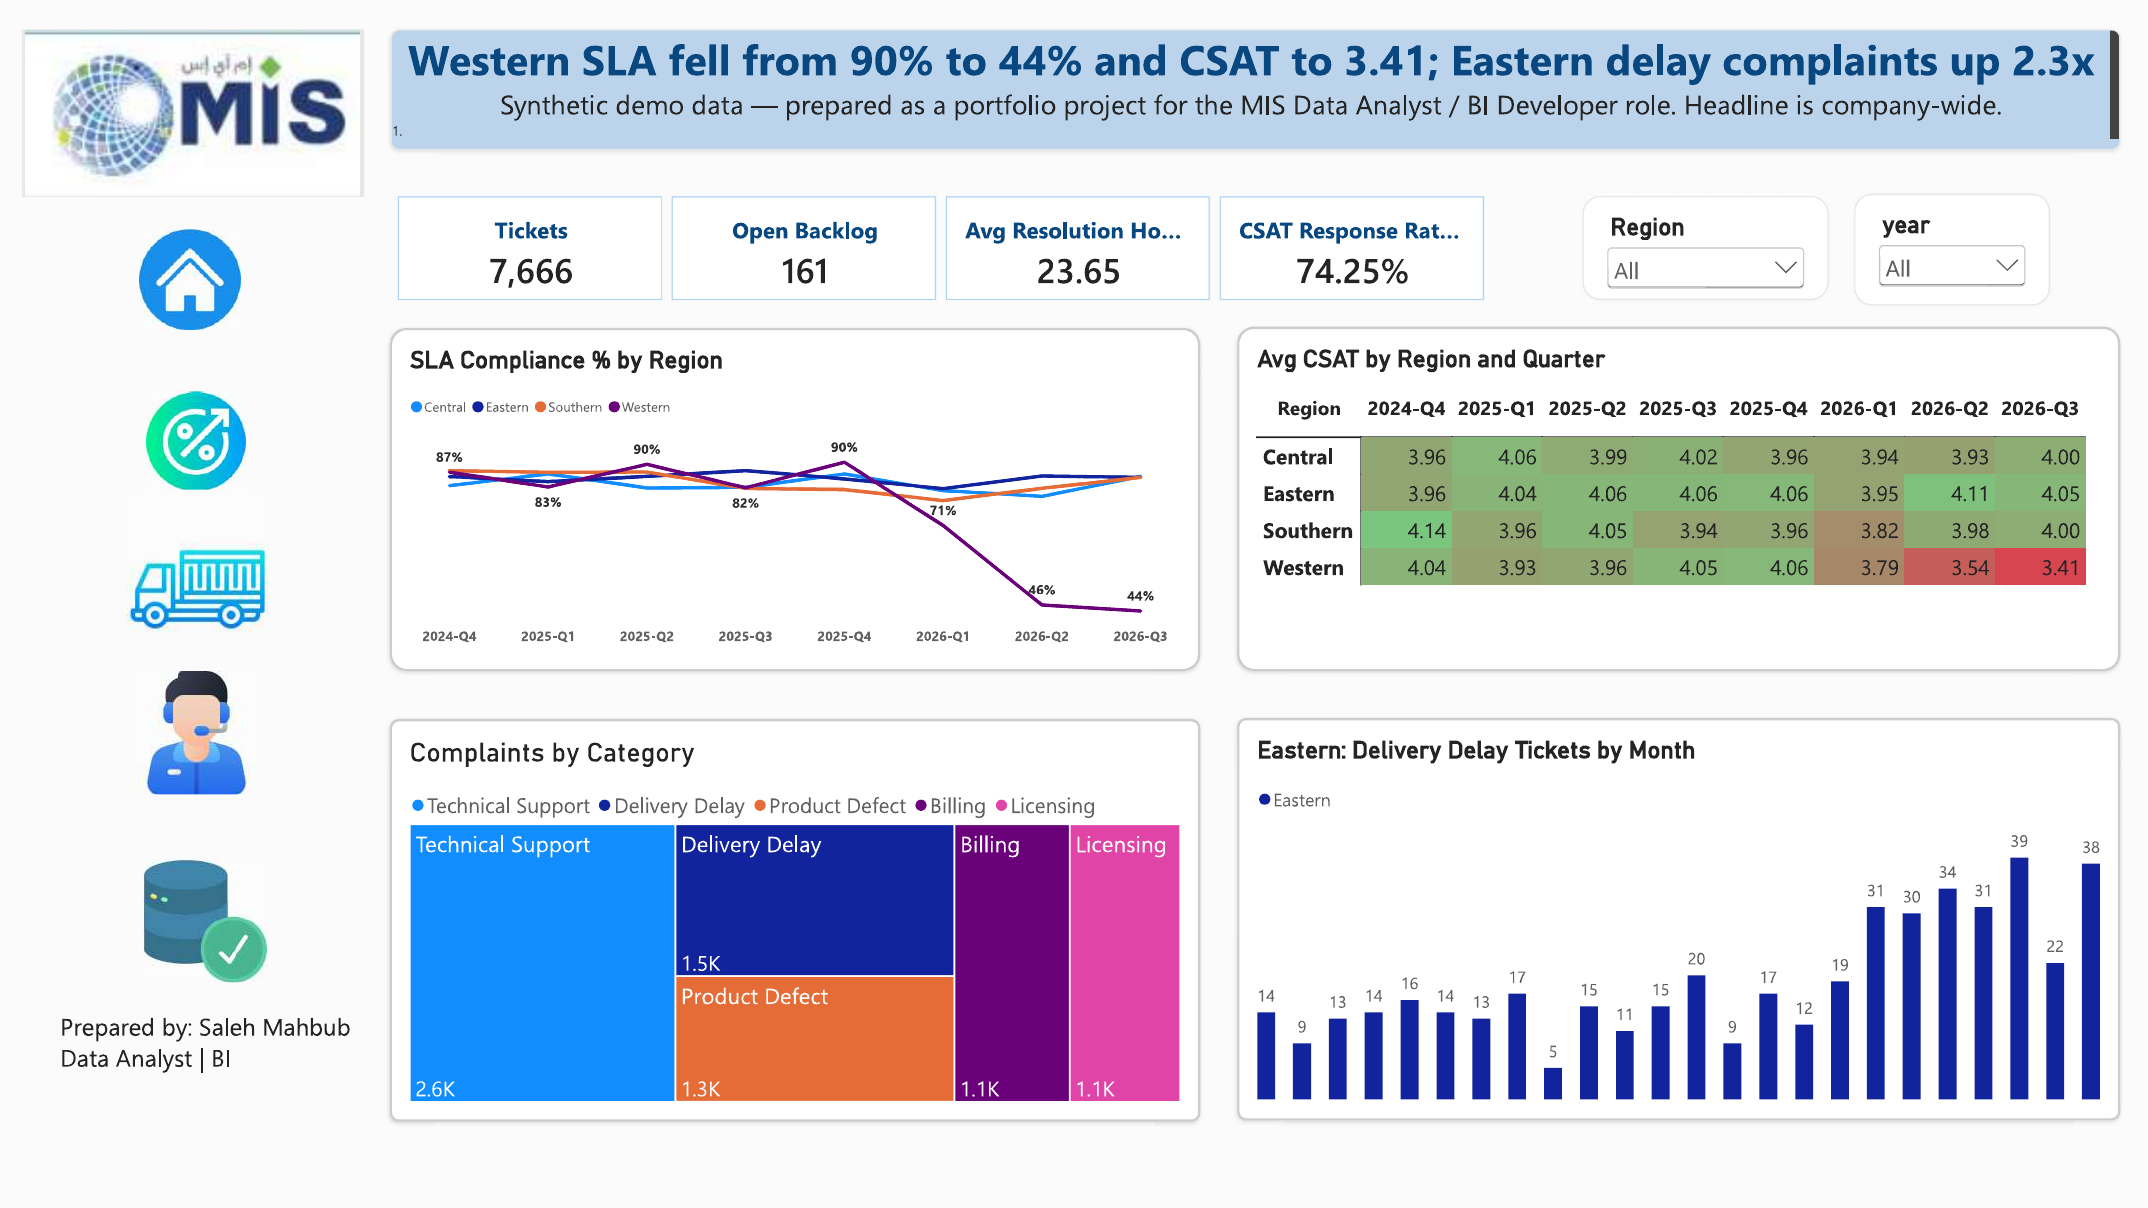

The page's visual inventory and layout, read from the dashboard file:
{"tool":"powerbi","page":{"name":" Customer Support","canvas":[1920,1080],"ordinal":3},"visuals":[{"type":"slicer","fields":{"Values":["dim_region.region_name_en"]},"box":[1415,175,220,92.5],"z":0},{"type":"slicer","fields":{"Values":["dim_date.year"]},"box":[1657.5,172.5,175,100],"z":1000},{"type":"textbox","box":[348.7,25.5,1547.7,108.4],"z":2000},{"type":"image","box":[19.1,25.5,306.1,150.9],"z":3000},{"type":"lineChart","title":"SLA Compliance % by Region","fields":{"Category":["dim_date.year_quarter"],"Series":["dim_region.region_name_en"],"Y":["_Measures.SLA Compliance %"]},"box":[347.5,292.5,725,307.5],"z":4000},{"type":"pivotTable","title":"Avg CSAT by Region and Quarter","fields":{"Columns":["dim_date.year_quarter"],"Rows":["dim_region.region_name_en"],"Values":["_Measures.Avg CSAT"]},"box":[1106,292,790,308],"z":5000},{"type":"treemap","title":"Complaints by Category","fields":{"Group":["fact_support_ticket.ticket_category"],"Values":["_Measures.Tickets"]},"box":[347.5,642.5,725,360],"z":6000},{"type":"cardVisual","fields":{"Data":["_Measures.Tickets","_Measures.Open Backlog","_Measures.Avg Resolution Hours","_Measures.CSAT Response Rate %"]},"box":[355,175,972.5,92.5],"z":7000},{"type":"clusteredColumnChart","title":"Eastern: Delivery Delay Tickets by Month","fields":{"Category":["dim_date.year_month"],"Series":["dim_region.Region"],"Y":["_Measures.Delivery Delay Tickets"]},"box":[1106,642,790,360],"z":8000},{"type":"image","box":[100,205,137.5,90],"z":8001},{"type":"image","box":[110,350,130,87.5],"z":8002},{"type":"image","box":[100,437.5,150,127.5],"z":8003},{"type":"image","box":[110,600,130,110],"z":8004},{"type":"image","box":[127.5,742.5,110,160],"z":8005},{"type":"textbox","box":[52.5,902.5,272.5,82.5],"z":8006}]}

Visuals, with their boxes in screenshot pixels (x1, y1, x2, y2), scaled from the page's 1920x1080 canvas onto the 2148x1208 screenshot:
slicer - dim_region.region_name_en: <region>1583, 196, 1829, 299</region>
slicer - dim_date.year: <region>1854, 193, 2050, 305</region>
textbox: <region>390, 29, 2122, 150</region>
image: <region>21, 29, 364, 197</region>
"SLA Compliance % by Region" lineChart: <region>389, 327, 1200, 671</region>
"Avg CSAT by Region and Quarter" pivotTable: <region>1237, 327, 2121, 671</region>
"Complaints by Category" treemap: <region>389, 719, 1200, 1121</region>
cardVisual - _Measures.Tickets x _Measures.Open Backlog: <region>397, 196, 1485, 299</region>
"Eastern: Delivery Delay Tickets by Month" clusteredColumnChart: <region>1237, 718, 2121, 1121</region>
image: <region>112, 229, 266, 330</region>
image: <region>123, 391, 268, 489</region>
image: <region>112, 489, 280, 632</region>
image: <region>123, 671, 268, 794</region>
image: <region>143, 830, 266, 1009</region>
textbox: <region>59, 1009, 364, 1102</region>
